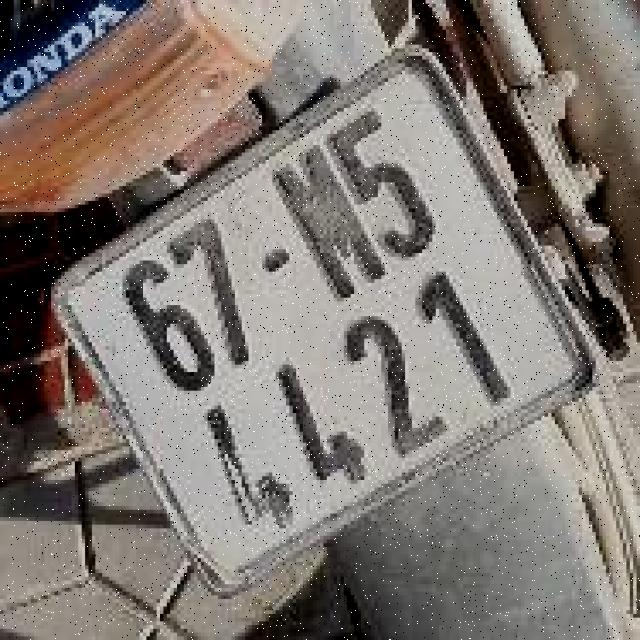1: (404, 246, 538, 426)
2: (329, 296, 465, 473)
4: (256, 337, 385, 508), (188, 385, 312, 549)
5: (316, 95, 458, 279)
6: (104, 242, 227, 411)
7: (161, 205, 278, 372)
M: (258, 130, 399, 316)
